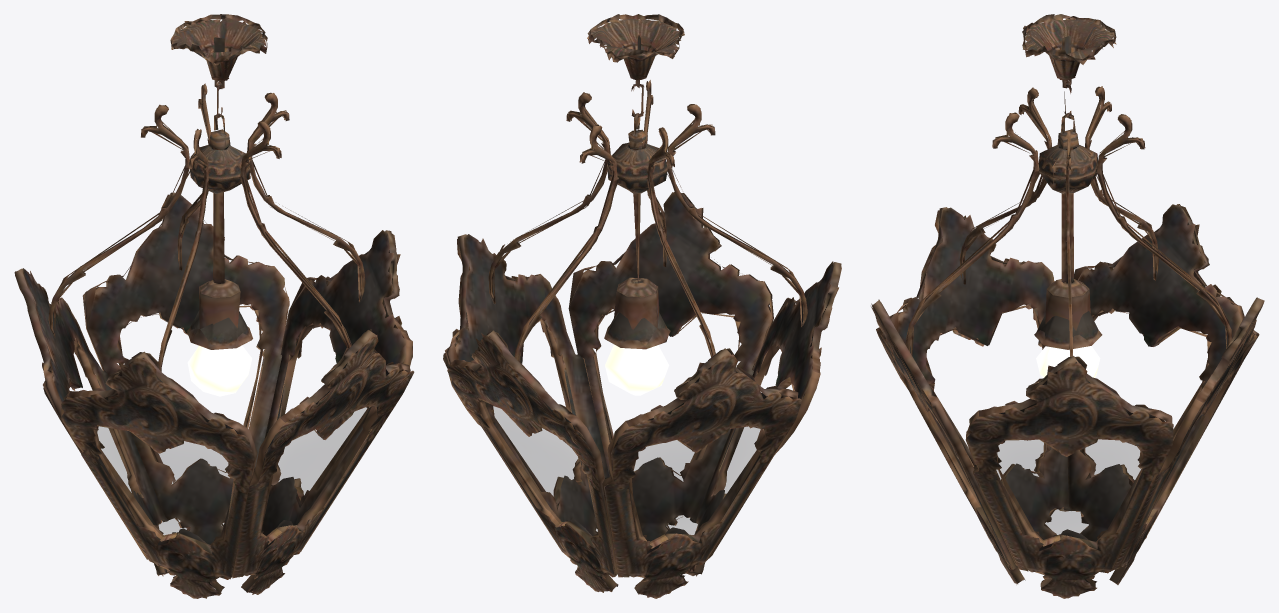
Rendered from lantern_chandelier_01.glb.
3 views of the same model, side by side, from view 1: azimuth 30°, elevation 25°; view 2: azimuth 150°, elevation 25°; view 3: azimuth 270°, elevation 25° (orthographic).
Parts seen in each view (by area): view 1: lantern_chandelier_01; view 2: lantern_chandelier_01; view 3: lantern_chandelier_01.
Boxes of the visible parts, x1,y1,x2,y2 form: lantern_chandelier_01: (14, 14, 414, 598); lantern_chandelier_01: (443, 14, 841, 598); lantern_chandelier_01: (871, 14, 1264, 598).
Size of the model in its own units: 0.5799 by 0.8787 by 0.5746.
Materials: 3 (2 with a texture image).
